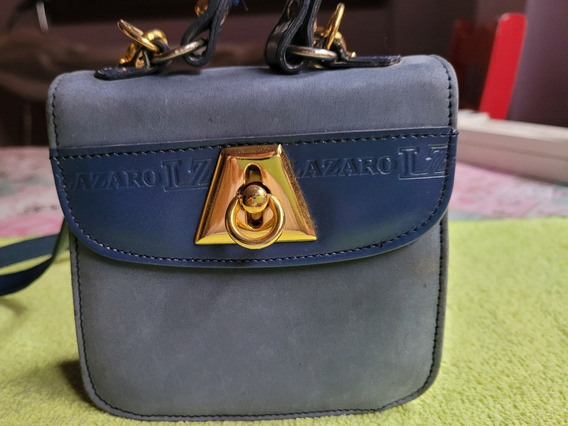cartera: (47, 1, 455, 420)
